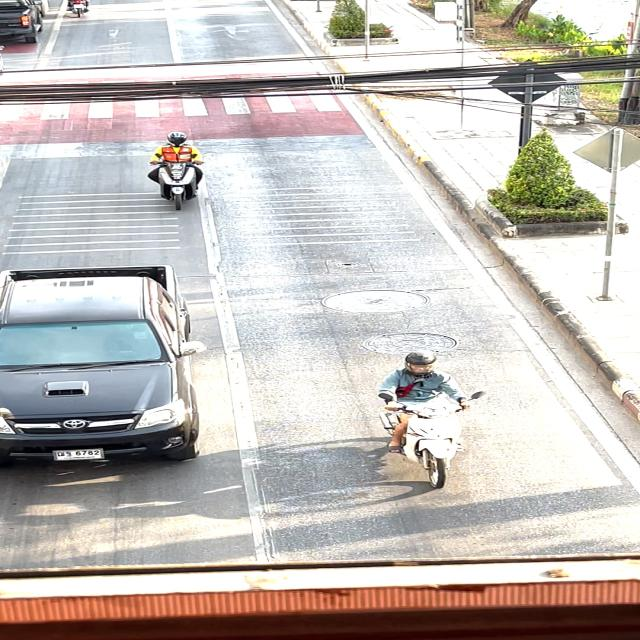car: (0, 255, 217, 485)
